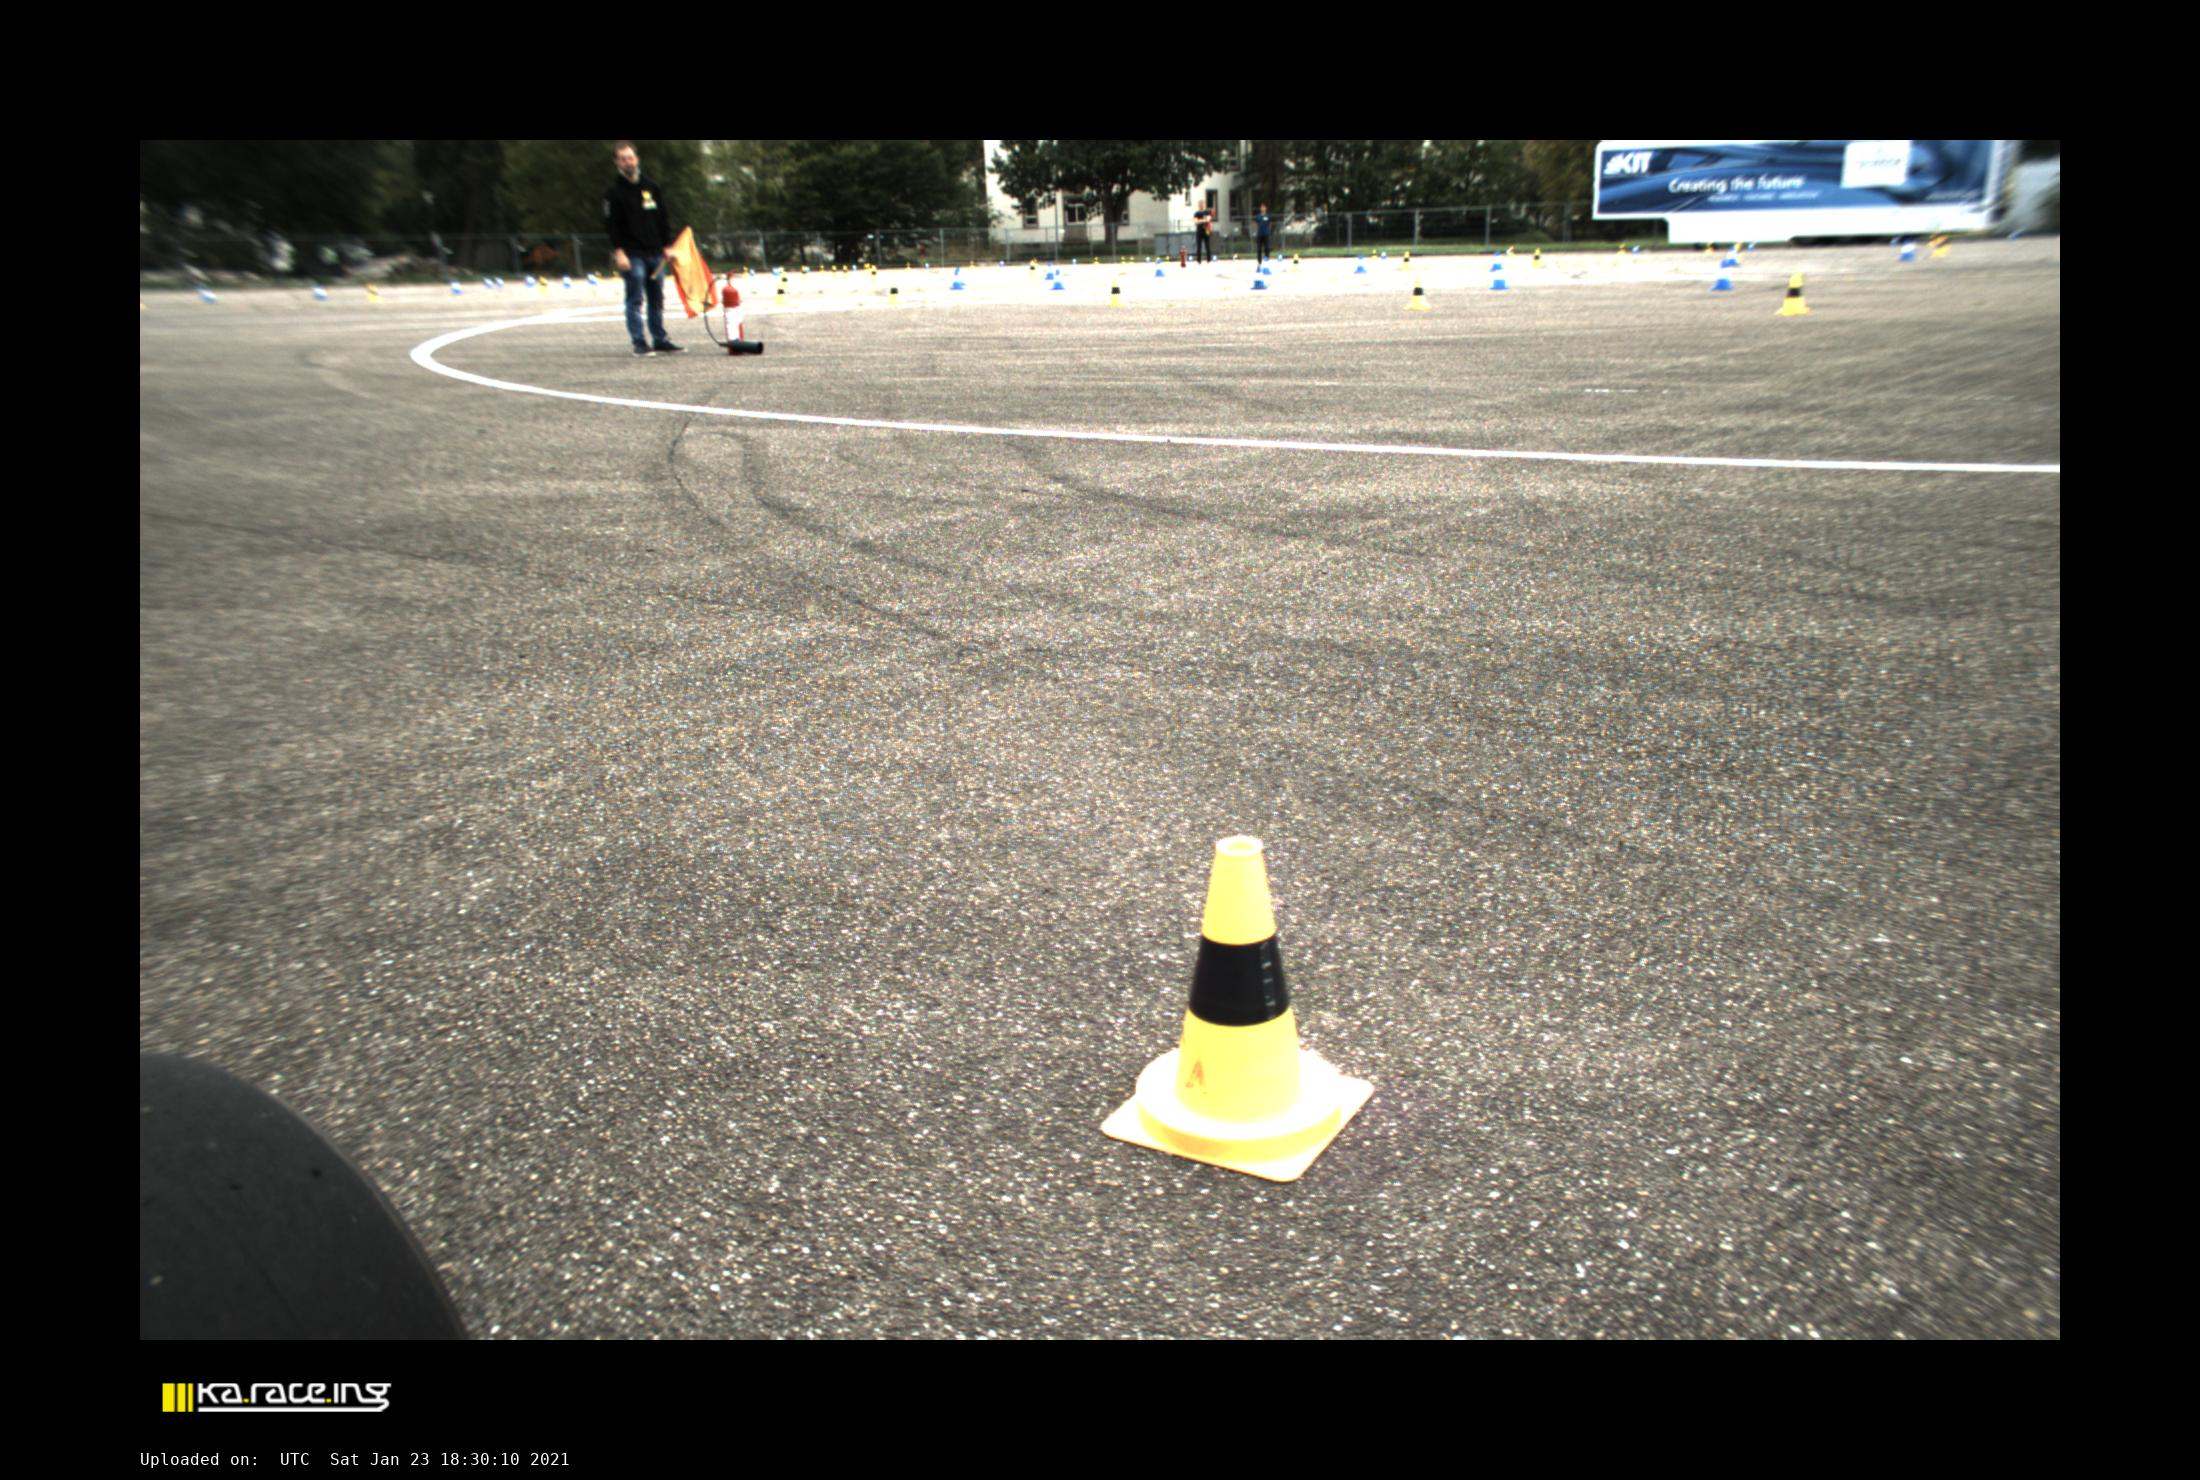blue_cone: (1709, 259, 1734, 291), (1488, 264, 1510, 289), (1896, 238, 1918, 261), (1250, 264, 1268, 289), (1490, 249, 1505, 271), (198, 287, 216, 304), (1050, 269, 1065, 289), (950, 269, 965, 289), (1353, 254, 1368, 273), (1728, 246, 1741, 266), (314, 286, 329, 301), (1044, 263, 1055, 279), (1262, 256, 1272, 274), (1155, 259, 1166, 274), (451, 281, 462, 296), (562, 273, 571, 289), (586, 273, 598, 286), (525, 274, 537, 287), (1889, 236, 1899, 248), (484, 277, 492, 289), (1632, 244, 1640, 254), (771, 266, 780, 276), (495, 277, 504, 287), (1747, 241, 1756, 249), (1381, 249, 1387, 259), (748, 268, 755, 277), (806, 264, 811, 274), (1505, 248, 1510, 256)
yellow_cone: (1102, 836, 1374, 1181), (1776, 273, 1810, 315), (1404, 277, 1432, 309), (1107, 277, 1126, 307), (1931, 235, 1951, 258), (885, 282, 903, 306), (775, 282, 789, 306), (1529, 248, 1544, 268), (1288, 253, 1303, 273), (538, 274, 552, 296), (368, 284, 383, 302), (1401, 251, 1412, 269), (1027, 259, 1039, 277), (1736, 243, 1746, 263), (799, 264, 809, 281), (780, 273, 789, 289), (869, 264, 877, 282), (841, 264, 851, 279), (742, 264, 752, 279), (1703, 243, 1714, 254), (1927, 233, 1937, 246), (1506, 244, 1516, 258), (831, 264, 839, 279), (1617, 243, 1625, 256), (1164, 254, 1173, 268), (778, 264, 785, 279), (613, 271, 621, 282), (1128, 254, 1135, 268), (1120, 254, 1126, 268), (819, 264, 826, 277), (1232, 253, 1239, 264), (1093, 254, 1100, 266), (968, 259, 974, 271), (864, 263, 870, 274), (595, 271, 601, 282), (1371, 249, 1377, 259), (905, 261, 912, 271)
